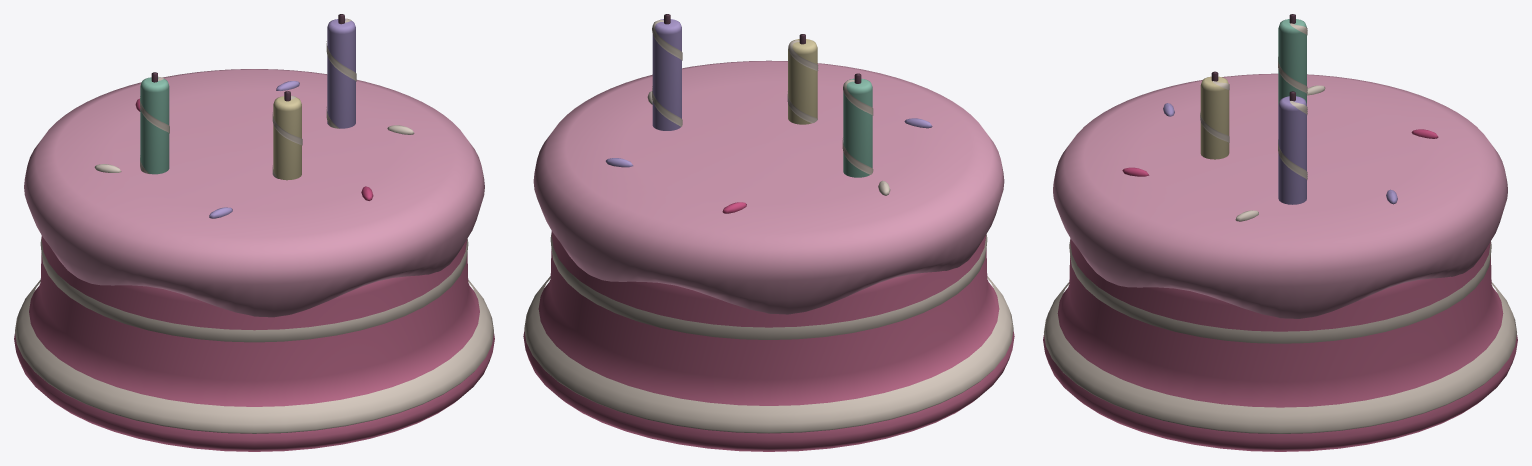
The model's file is Cosmetic_Birthday_Cake.glb.
The picture shows the model from 3 angles, left to right: view 1: azimuth 30°, elevation 25°; view 2: azimuth 150°, elevation 25°; view 3: azimuth 270°, elevation 25°; orthographic projection. The views are drawn at different scales.
Parts seen in each view (by area): view 1: Birthday_Cake; view 2: Birthday_Cake; view 3: Birthday_Cake.
Part boxes in pixels (bbox=[...]): Birthday_Cake: bbox=[14, 14, 494, 451]; Birthday_Cake: bbox=[523, 14, 1014, 451]; Birthday_Cake: bbox=[1043, 14, 1517, 451].
Size of the model in its own units: 0.58 by 0.416 by 0.58.
